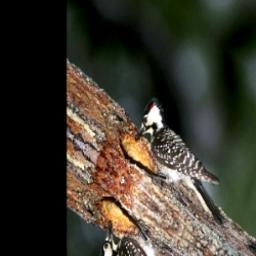Woodpecker: (127, 87, 243, 240)
